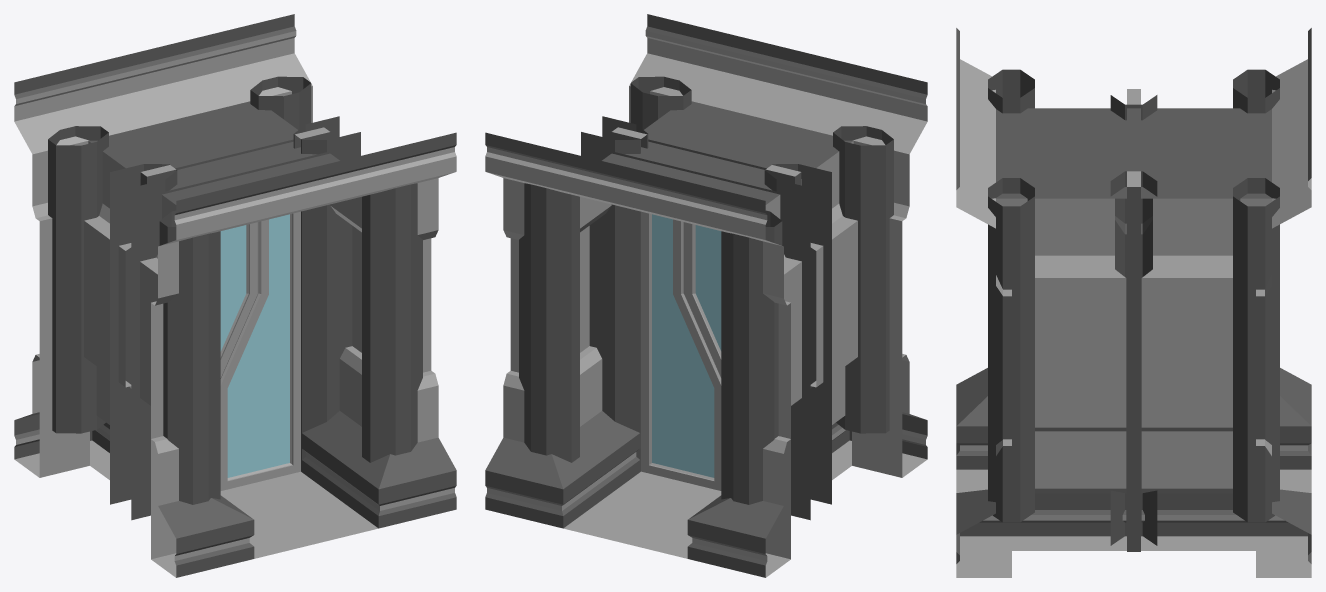
The model's file is SM_WallSectionDoor.fbx.
The picture shows the model from 3 angles, left to right: view 1: azimuth 30°, elevation 25°; view 2: azimuth 150°, elevation 25°; view 3: azimuth 270°, elevation 25°; orthographic projection. The views are drawn at different scales.
Visible parts, largest first — view 1: SM_WallSectionDoor, SM_DoorSection1, SM_DoorSection2; view 2: SM_WallSectionDoor, SM_DoorSection1, SM_DoorSection2; view 3: SM_WallSectionDoor.
Part boxes in pixels (left/top/right/bottom): SM_WallSectionDoor: left=14, top=14, right=456, bottom=577; SM_DoorSection1: left=220, top=211, right=300, bottom=490; SM_DoorSection2: left=220, top=222, right=258, bottom=378; SM_WallSectionDoor: left=485, top=14, right=927, bottom=577; SM_DoorSection1: left=641, top=211, right=721, bottom=490; SM_DoorSection2: left=683, top=222, right=721, bottom=378; SM_WallSectionDoor: left=956, top=28, right=1311, bottom=577.
Size of the model in its own units: 200 by 257 by 200.
